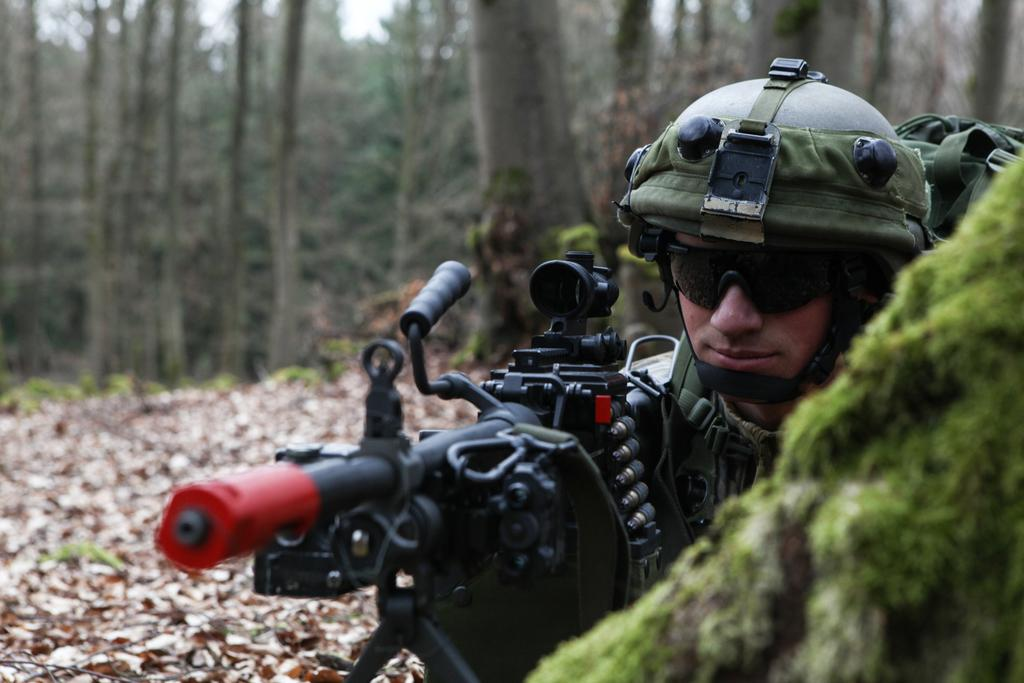Rifle: (159, 259, 861, 668)
